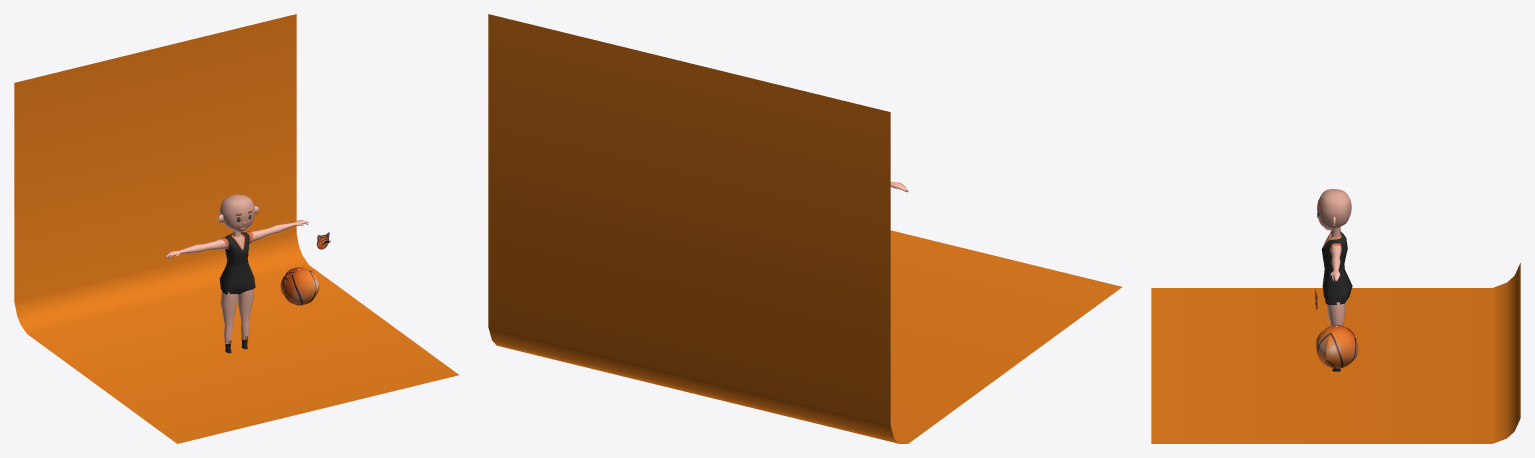
File: vag.glb
The picture shows the model from 3 angles, left to right: view 1: azimuth 30°, elevation 25°; view 2: azimuth 150°, elevation 25°; view 3: azimuth 270°, elevation 25°; orthographic projection. The views are drawn at different scales.
Visible parts, largest first — view 1: Plane, Cube.002, perna, BOLA; view 2: Plane; view 3: Plane, Cube.002, BOLA, perna.
Part boxes in pixels (x1,y1,x2,y2): Plane: [14, 14, 458, 443]; Cube.002: [164, 194, 308, 353]; perna: [220, 289, 253, 352]; BOLA: [280, 267, 319, 305]; Plane: [488, 14, 1121, 443]; Plane: [1151, 263, 1520, 443]; Cube.002: [1317, 189, 1352, 371]; BOLA: [1316, 325, 1358, 368]; perna: [1327, 302, 1345, 371].
Bounding box in the file's own units: 9 × 7.5 × 9.
16 materials, 2 textured.
